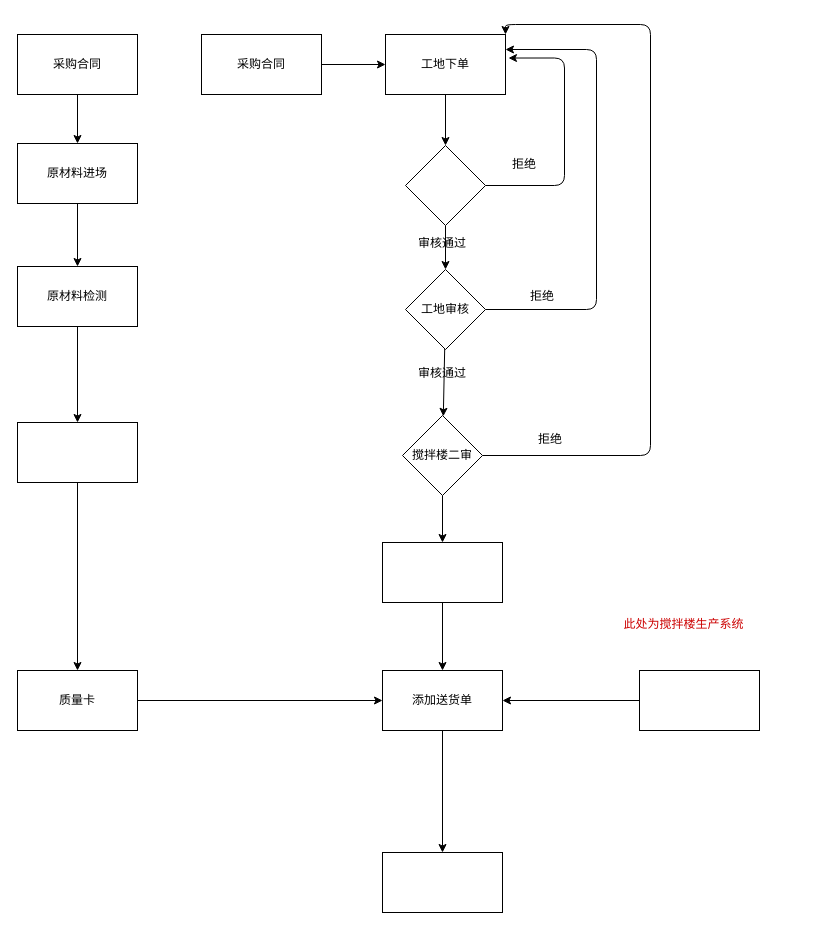
The diagram is 816 pixels wide and 930 high, and some of its shapes have lost their labels. The centre of each missing label's shape, as x and y in pixels:
"工地签收" belongs at pixel 442 882.
"搅拌楼下料系统生产" belongs at pixel 699 700.
"搅拌楼初审" belongs at pixel 445 185.
"生成检测报告" belongs at pixel 77 452.
"生成订单" belongs at pixel 442 572.
